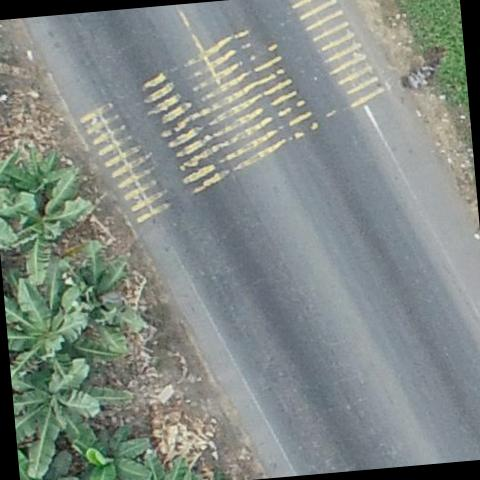Banana-plant: (9, 349, 120, 480), (0, 162, 107, 291), (2, 272, 100, 367)
